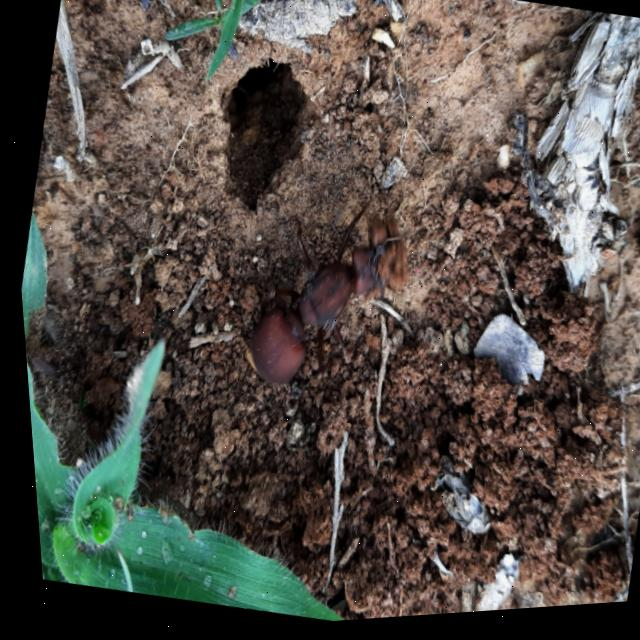Alive-Female-Dealate: (227, 177, 417, 413)
